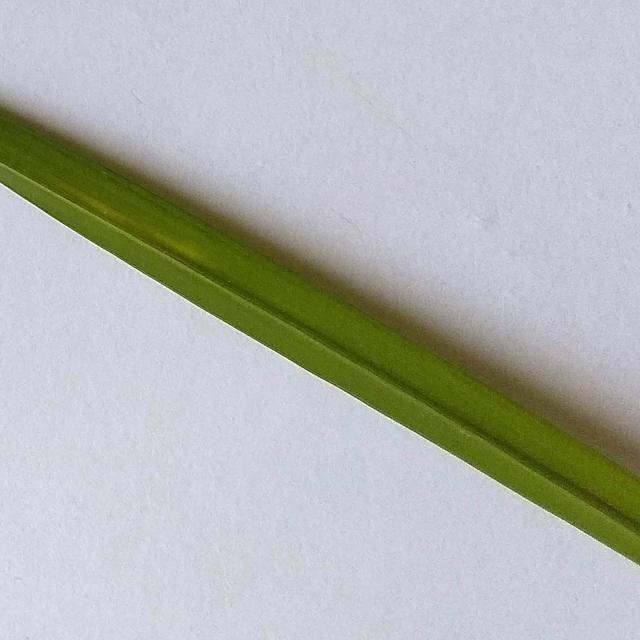healthy: (0, 101, 640, 566)
